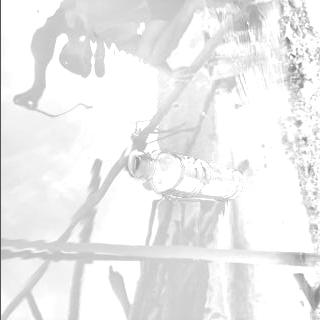bottle: (125, 146, 249, 204)
